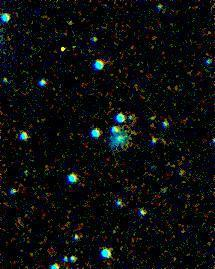star: (46, 35, 76, 65)
